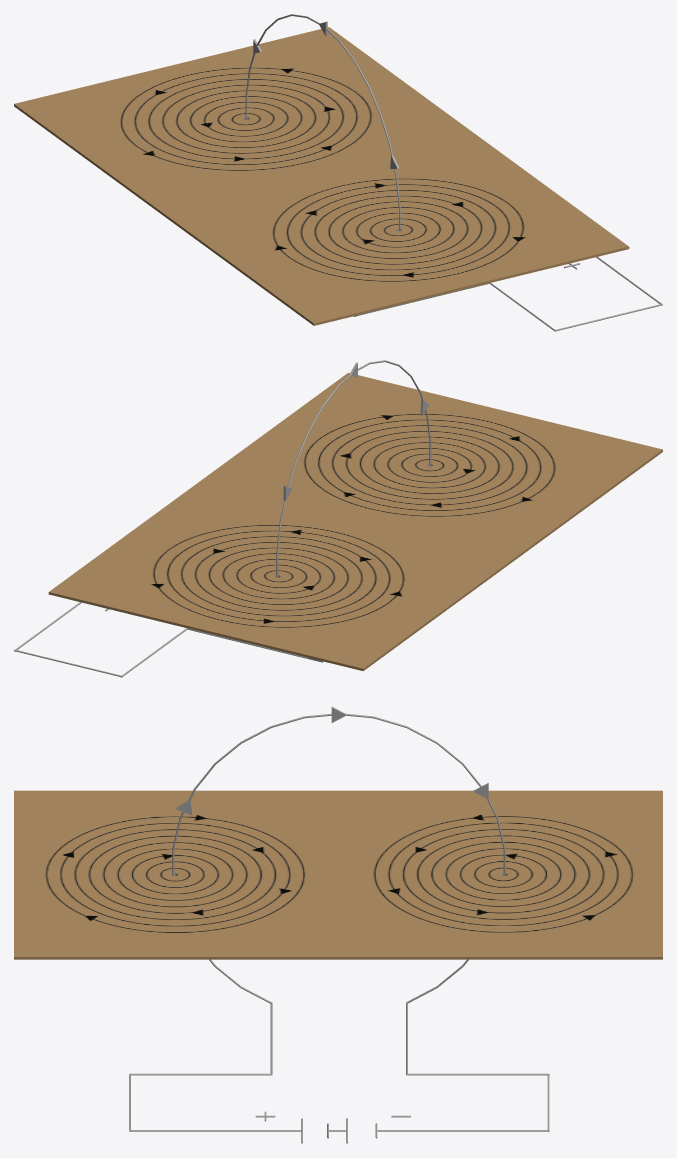
The model's file is Circle setup.fbx.
The picture shows the model from 3 angles, top to bottom: view 1: azimuth 30°, elevation 25°; view 2: azimuth 150°, elevation 25°; view 3: azimuth 270°, elevation 25°; orthographic projection. The views are drawn at different scales.
Visible parts, largest first — view 1: Paper_plane_1, Arrows5, Wire_set; view 2: Paper_plane_1, Arrows5, Wire_set; view 3: Paper_plane_1, Wire_set, Arrows5.
Part boxes in pixels (x1=…): Paper_plane_1: x1=14, y1=27, x2=629, y2=325; Arrows5: x1=245, y1=14, x2=400, y2=316; Wire_set: x1=362, y1=257, x2=662, y2=331; Paper_plane_1: x1=48, y1=373, x2=662, y2=671; Arrows5: x1=276, y1=360, x2=431, y2=662; Wire_set: x1=14, y1=602, x2=319, y2=677; Paper_plane_1: x1=14, y1=790, x2=662, y2=959; Wire_set: x1=129, y1=1002, x2=549, y2=1143; Arrows5: x1=172, y1=706, x2=505, y2=1003.
Bounding box in the file's own units: 330 × 204 × 404.
Materials: 4 (1 with a texture image).
